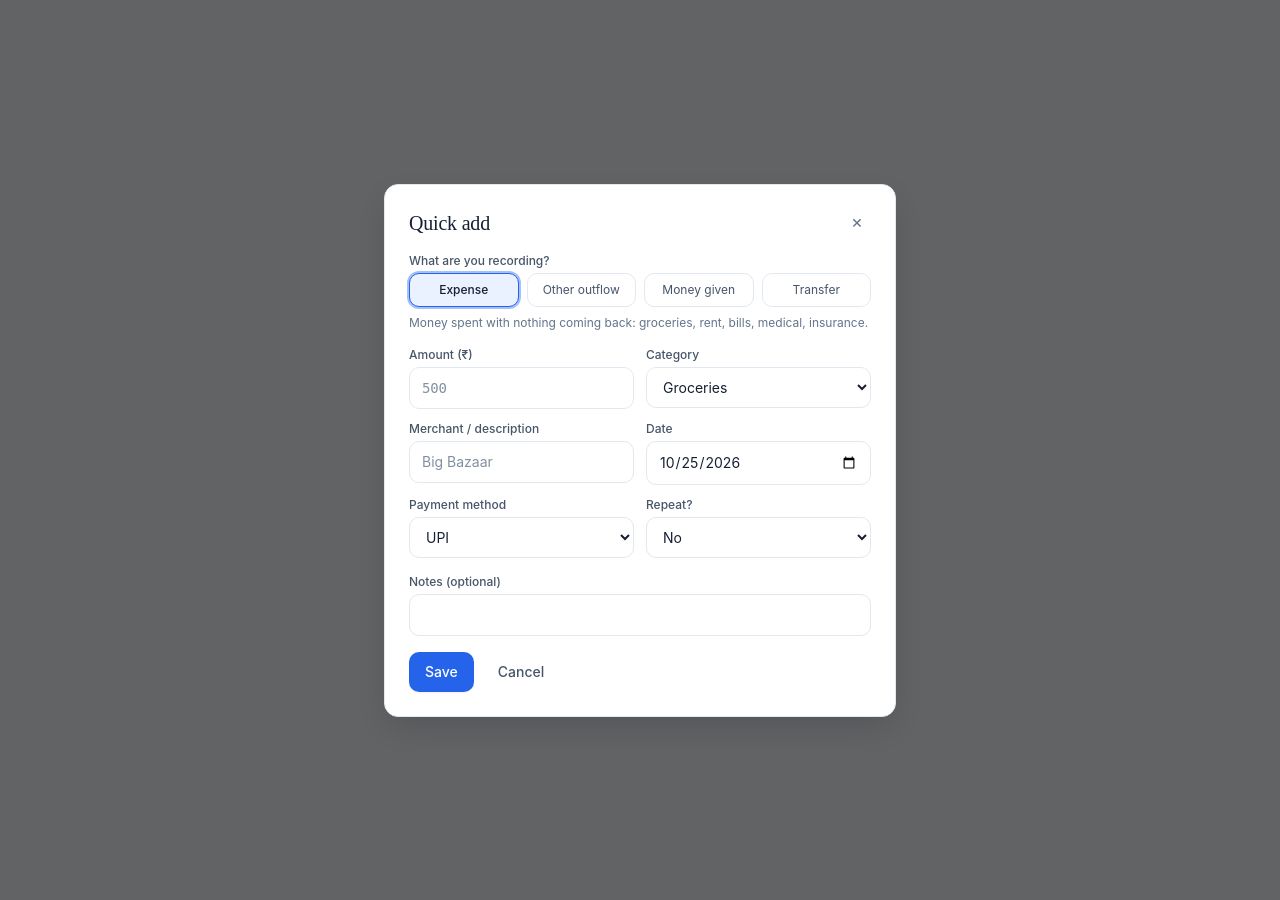
it: QuickExpenseDialog › sends the chosen repeat cadence and end date with the same request (no separate step)
The image size is (1280, 900).
Type "999" into the number field labelled "Amount (₹)".
click(522, 388); type("999")  # box [409,366,634,408]
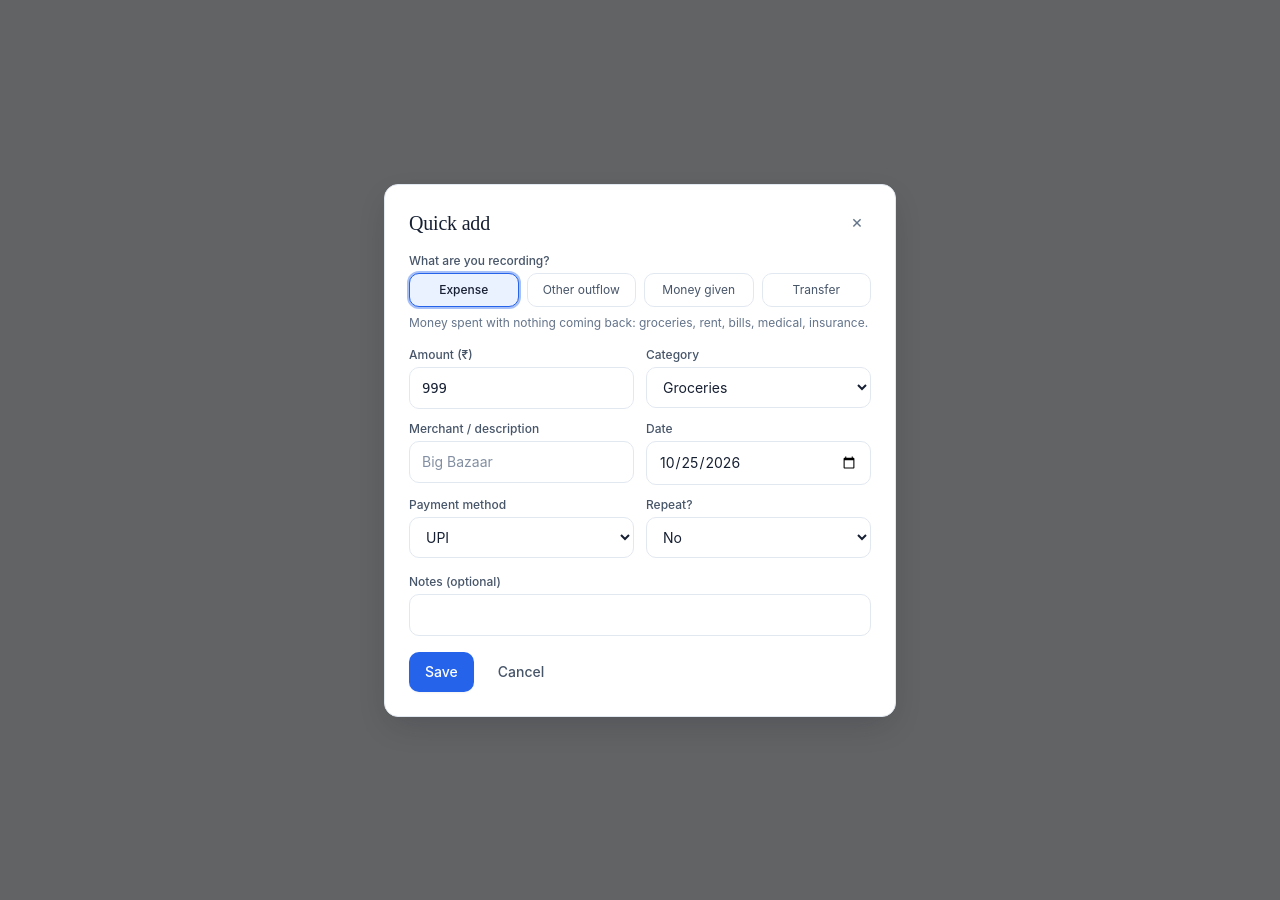
Select "Monthly" in the dropdown labelled "Repeat?" at (758, 537), box [646,516,871,558]
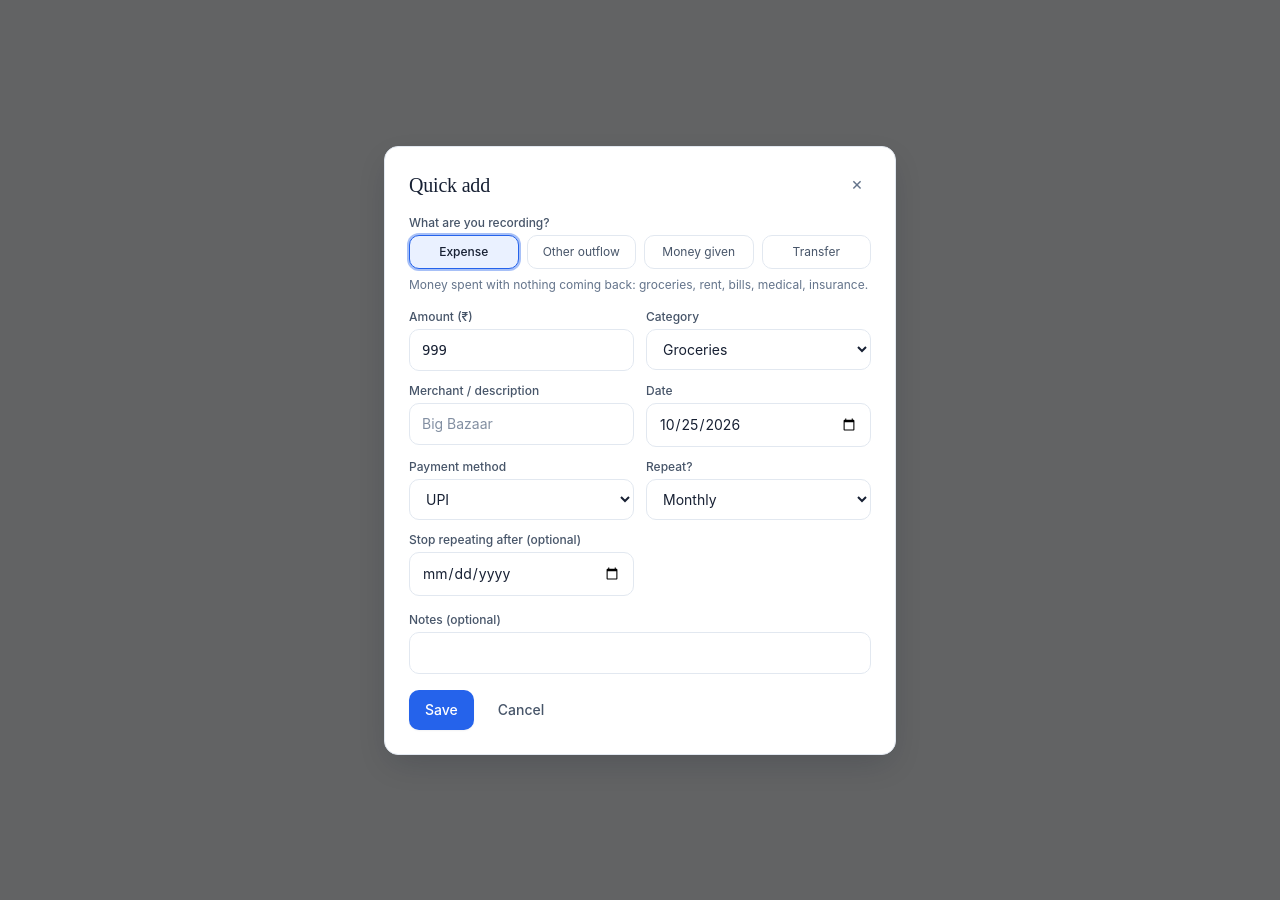
Type "2027-03-31" into the date field labelled "Stop repeating after (optional)".
click(522, 574); type("2027-03-31")  # box [409,552,634,596]
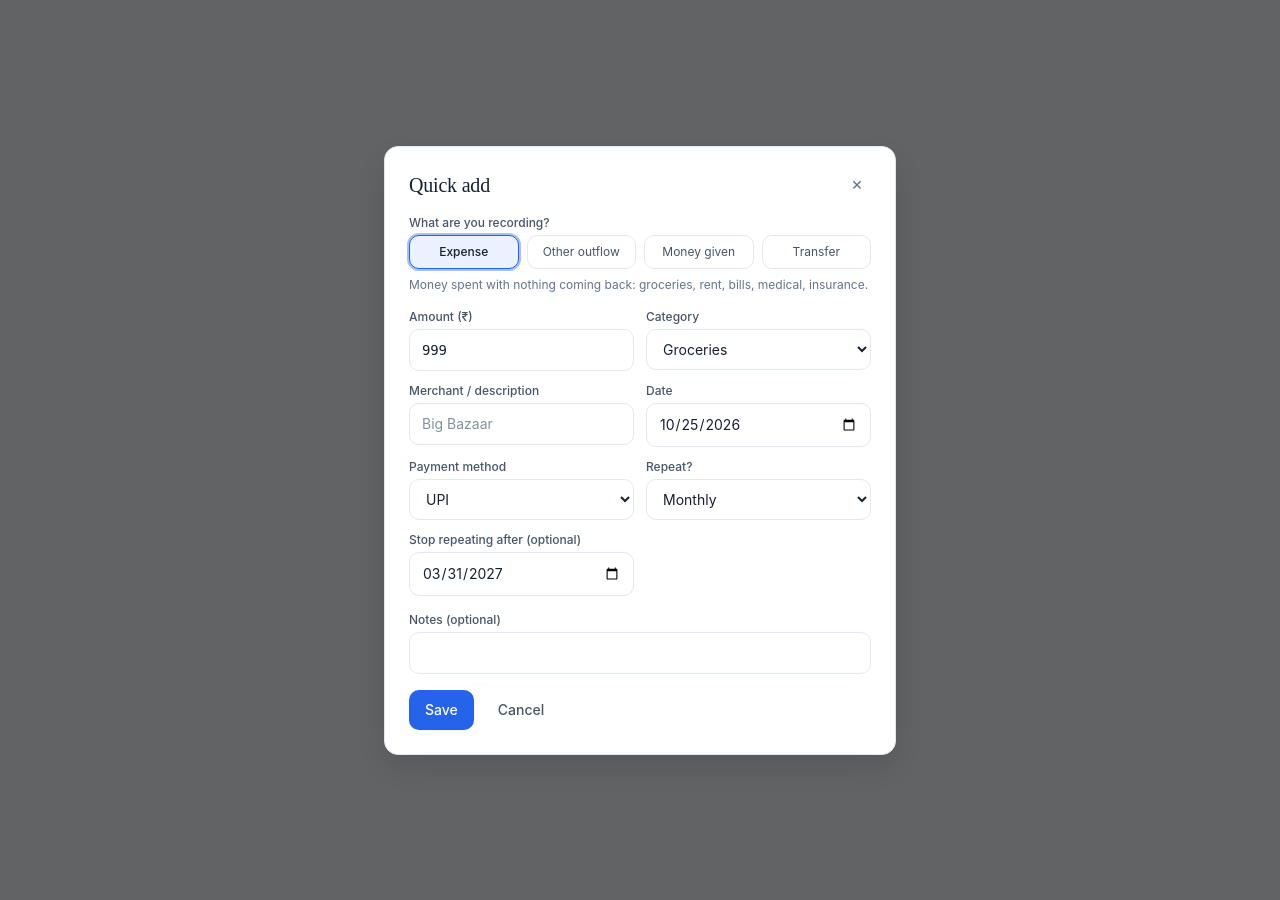
Click the button "Save".
click(441, 710)  # box [409,690,474,730]
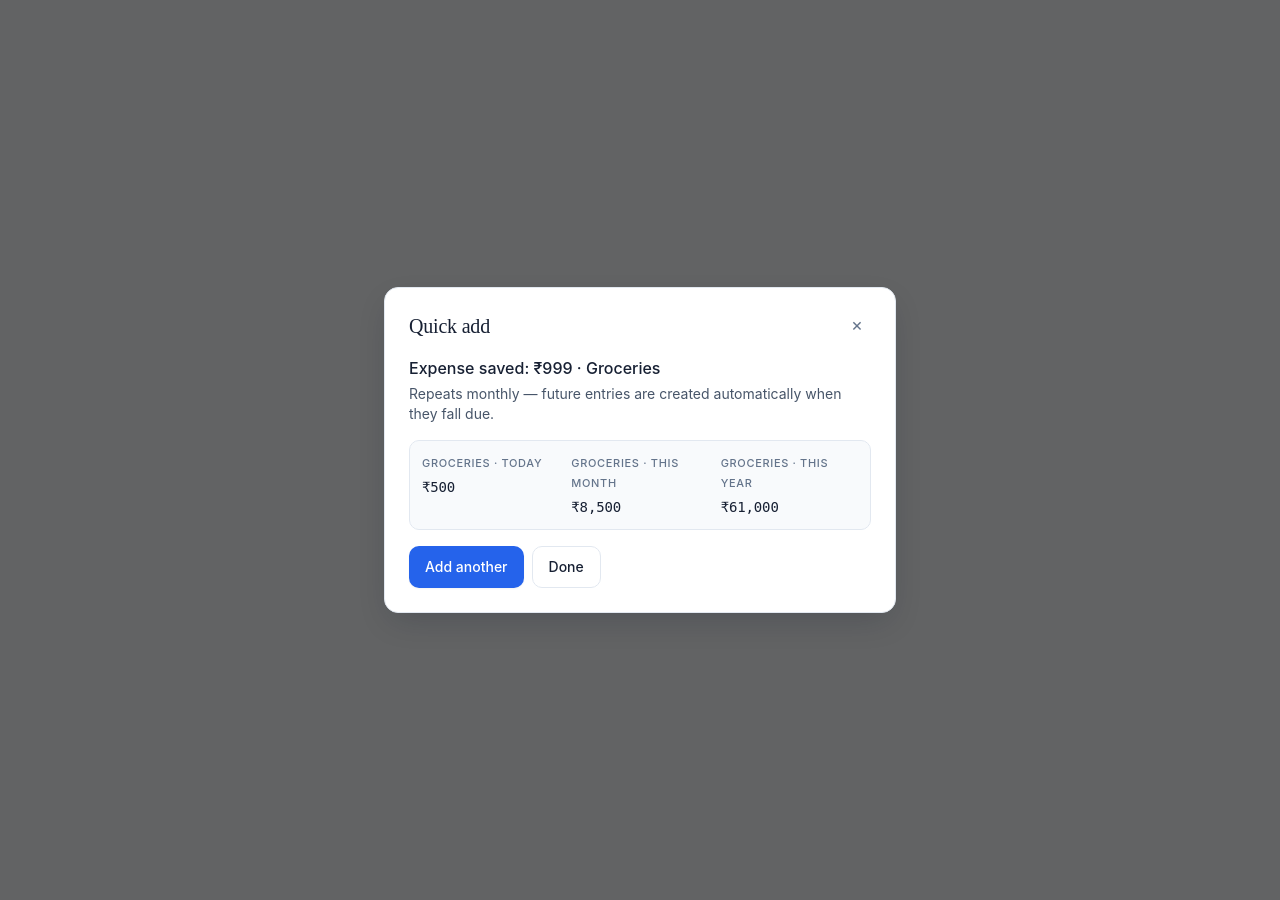
Check: the text "Repeats monthly" is shown, box [409,385,841,422]
